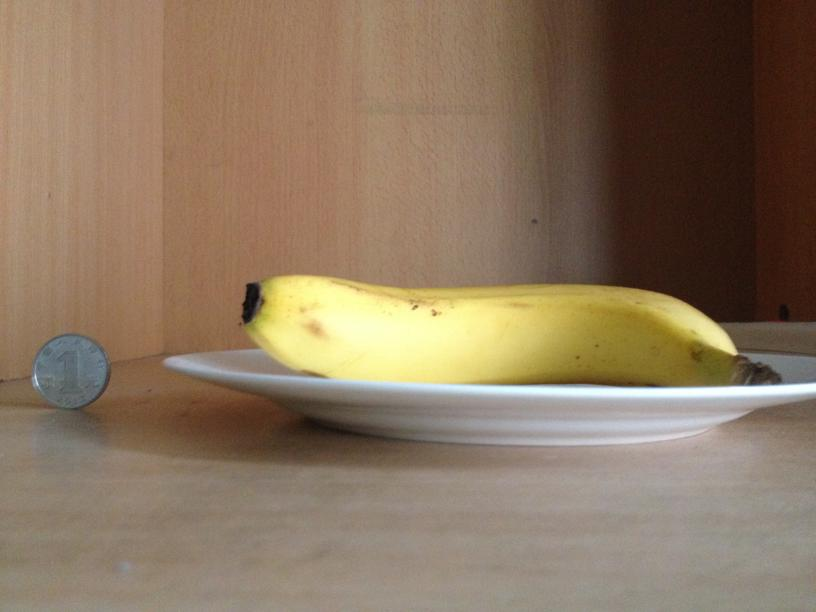banana: (250, 273, 749, 382)
coin: (31, 332, 110, 408)
